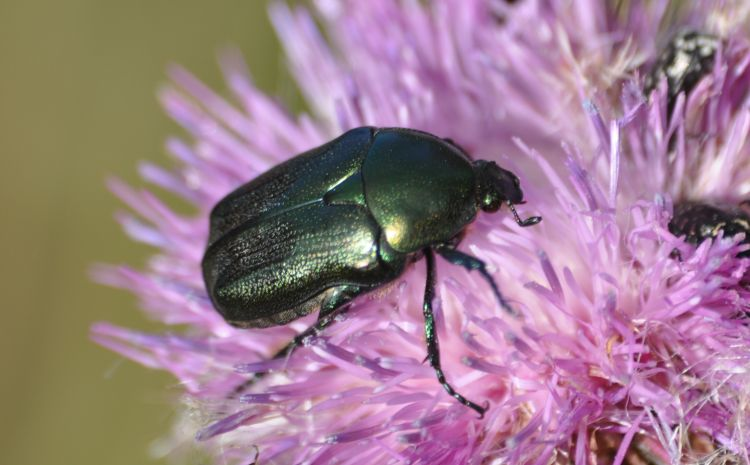Protaetia_angustata_angustata: (186, 120, 546, 420)
